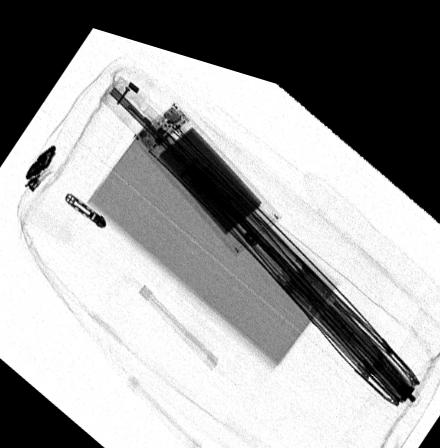Powerbank: (131, 88, 283, 241)
